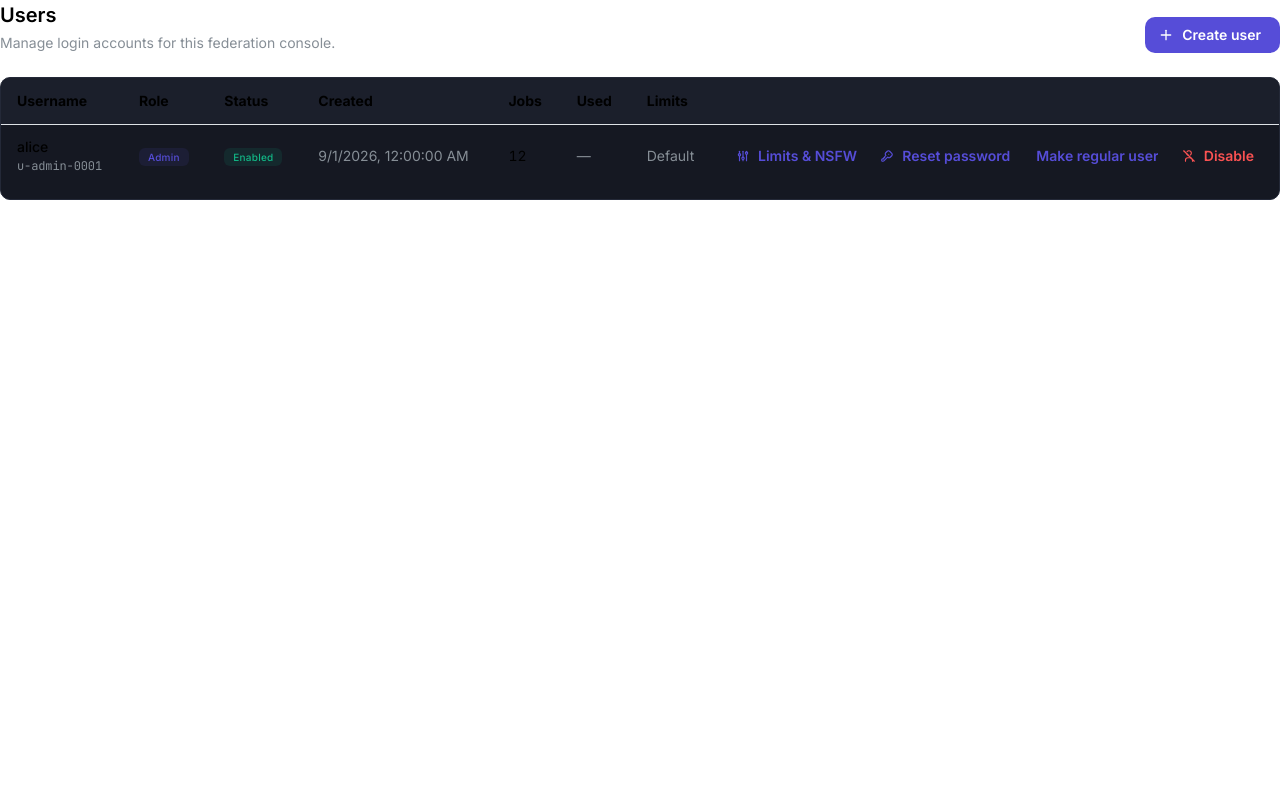
Users page: error mapping › surfaces the translated last_admin message when demoting the last admin is rejected
Expected: the text "alice" is shown, [17,138,48,155]
Click the button "Make regular user": (1097, 156) [1027,143,1168,169]
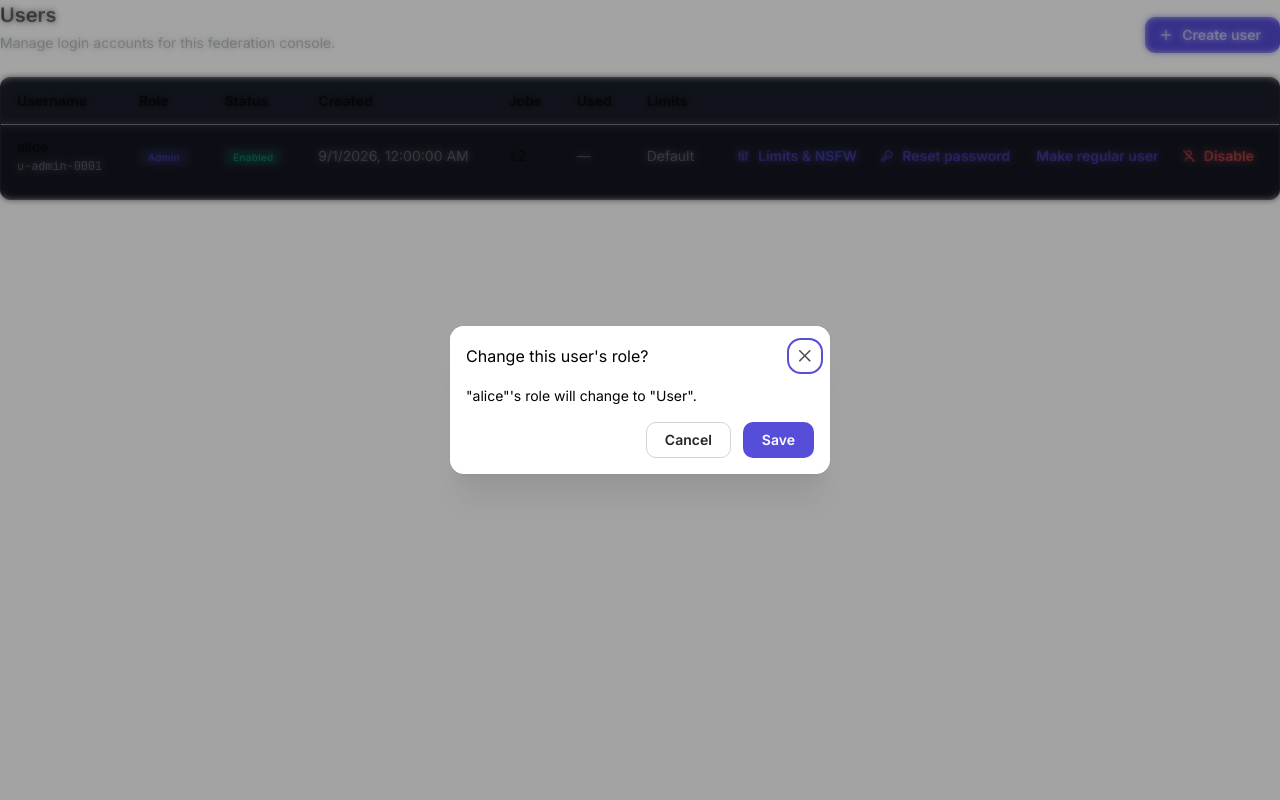
Click the button "Save": (778, 440) [743,422,814,458]
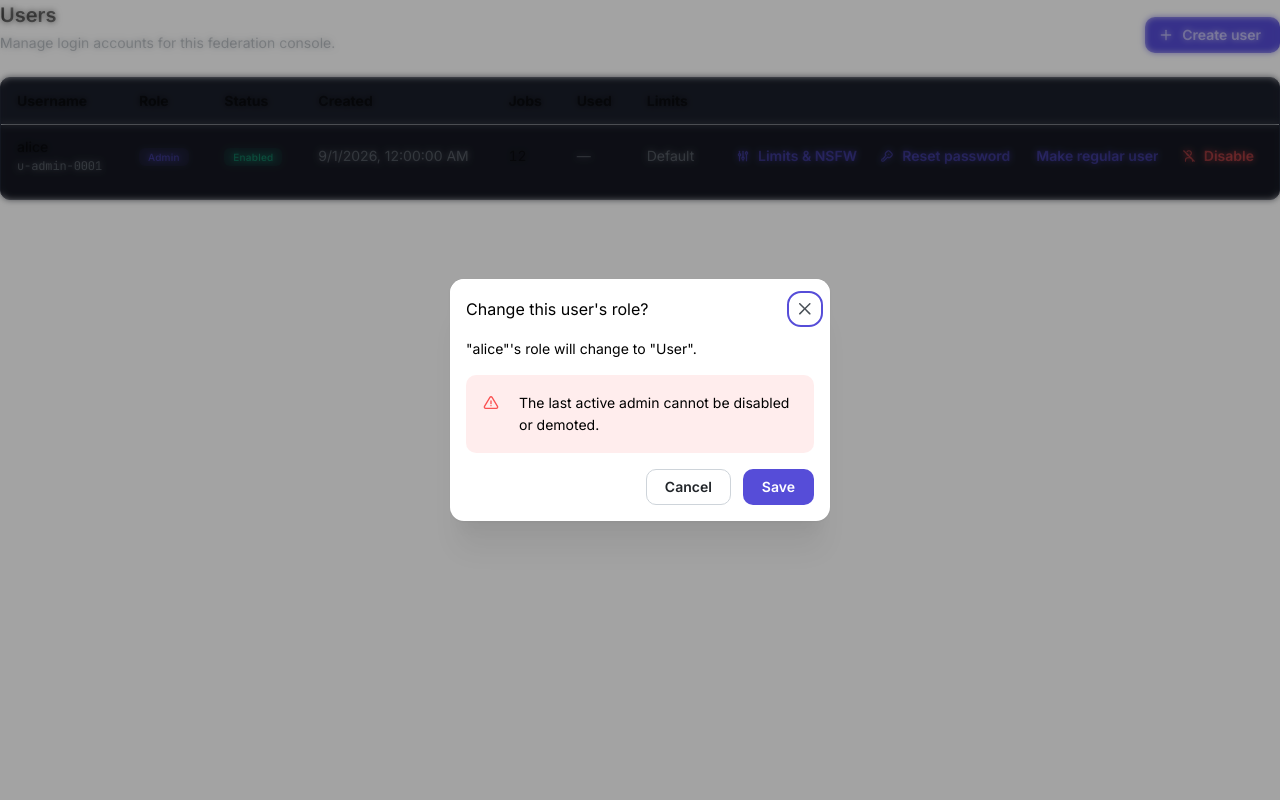
Expected: the text "The last active admin cannot be disabled or demoted." is shown, [519,392,797,436]
